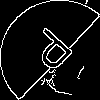P: (25, 25, 83, 80)
